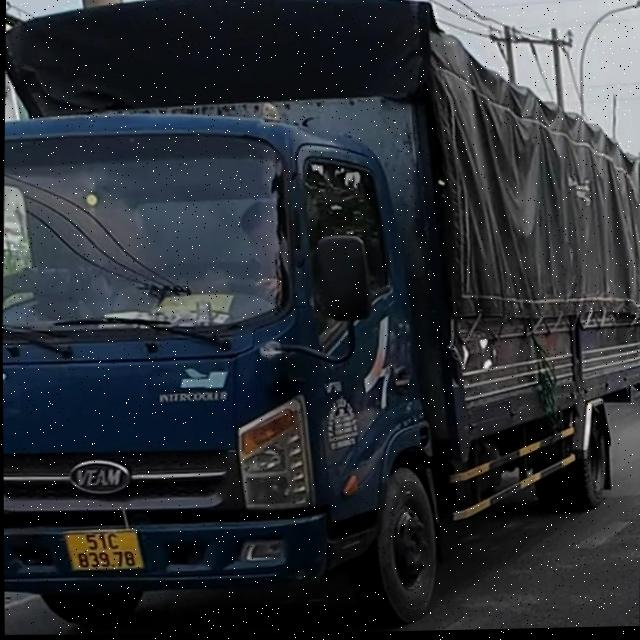car: (0, 0, 640, 638)
plate: (63, 519, 148, 579)
